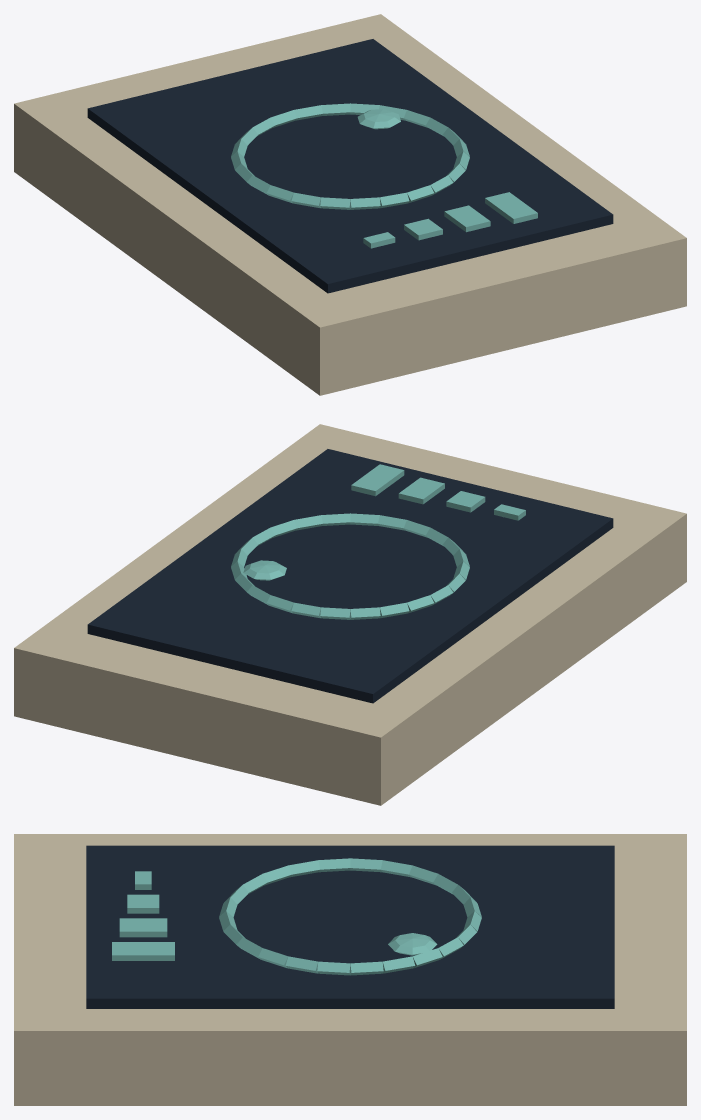
Rendered from space_scene_data_slate.glb.
3 renders of one model, top to bottom at view 1: azimuth 30°, elevation 25°; view 2: azimuth 150°, elevation 25°; view 3: azimuth 270°, elevation 25°, orthographic. The views are drawn at different scales.
Visible parts, largest first — view 1: FixedDetails; view 2: FixedDetails; view 3: FixedDetails.
Boxes of the visible parts, left/top/right/bottom form: FixedDetails: left=14, top=14, right=686, bottom=395; FixedDetails: left=14, top=424, right=686, bottom=805; FixedDetails: left=14, top=834, right=686, bottom=1105.
Size of the model in its own units: 0.45 by 0.106 by 0.65.
